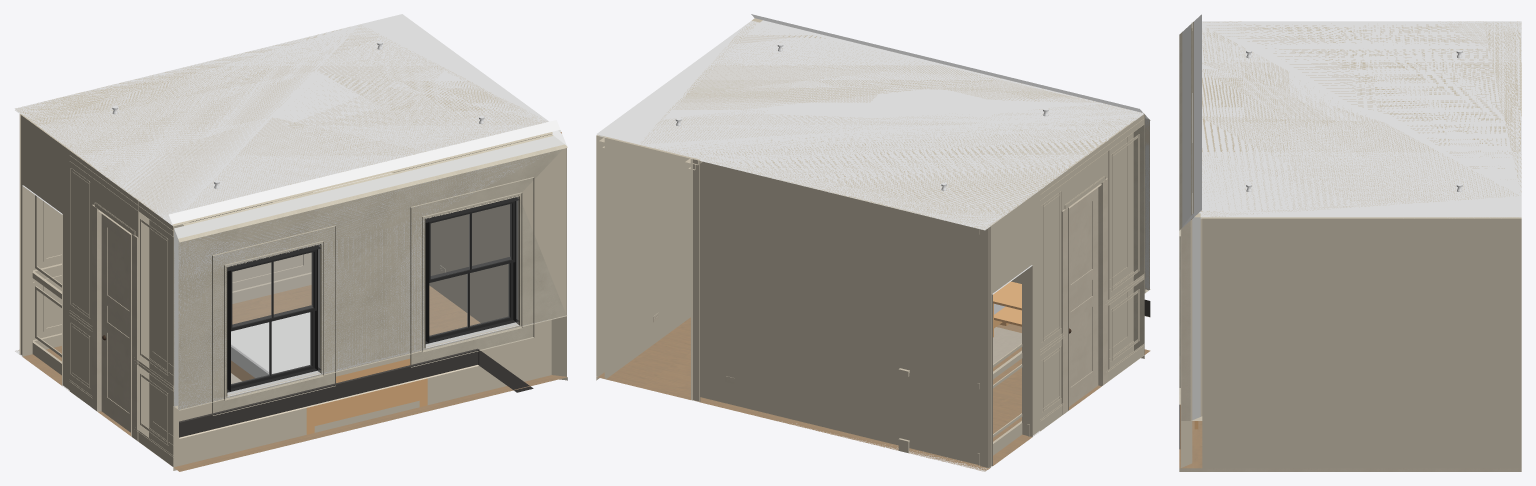
Rendered from blue-bedroom-602d1c1d86f0.glb.
3 views of the same model, side by side, from view 1: azimuth 30°, elevation 25°; view 2: azimuth 150°, elevation 25°; view 3: azimuth 270°, elevation 25° (orthographic). The views are drawn at different scales.
Visible parts, largest first — view 1: blue-bedroom-9d91b47435c6fb33, blue-bedroom-bddaf205afbd60c0, blue-bedroom-e8793759323e04f0, blue-bedroom-df3e1f21720b0c39, blue-bedroom-ed5fdcd3ee9c0dd5, blue-bedroom-649b3532e9781727, blue-bedroom-3c3de67e8dd93323, blue-bedroom-2f7d8eff34a2c180, blue-bedroom-d558d227e2c2e58e, blue-bedroom-746250f96522f643, blue-bedroom-64753ebcb3824a84, blue-bedroom-2575515a05775d9e (+14 smaller); view 2: blue-bedroom-6e269356ae8bfd70, blue-bedroom-9d91b47435c6fb33, blue-bedroom-e8793759323e04f0, blue-bedroom-746250f96522f643, blue-bedroom-ed5fdcd3ee9c0dd5, blue-bedroom-2575515a05775d9e, blue-bedroom-3e649b0d114ae387, blue-bedroom-bf159a19de53e60e, blue-bedroom-8798d08755b4aa77, blue-bedroom-95684fa6df9df9bf, blue-bedroom-6094a6ce4f88b510, blue-bedroom-00ce7128e34bccf3 (+5 smaller); view 3: blue-bedroom-746250f96522f643, blue-bedroom-9d91b47435c6fb33, blue-bedroom-e8793759323e04f0, blue-bedroom-2575515a05775d9e, blue-bedroom-0a6e1f8a567f4490, blue-bedroom-49f6d498b24b79cd, blue-bedroom-64753ebcb3824a84, blue-bedroom-df3e1f21720b0c39, blue-bedroom-34525a54e63b733b, blue-bedroom-2f7d8eff34a2c180, blue-bedroom-4edf3a9420c06709, blue-bedroom-bddaf205afbd60c0 (+1 smaller).
Part boxes in pixels (x1=…): blue-bedroom-9d91b47435c6fb33: x1=14, y1=14, x2=552, y2=226; blue-bedroom-bddaf205afbd60c0: x1=178, y1=144, x2=566, y2=409; blue-bedroom-e8793759323e04f0: x1=15, y1=26, x2=560, y2=224; blue-bedroom-df3e1f21720b0c39: x1=178, y1=145, x2=567, y2=410; blue-bedroom-ed5fdcd3ee9c0dd5: x1=19, y1=114, x2=149, y2=441; blue-bedroom-649b3532e9781727: x1=425, y1=195, x2=519, y2=343; blue-bedroom-3c3de67e8dd93323: x1=227, y1=244, x2=321, y2=392; blue-bedroom-2f7d8eff34a2c180: x1=173, y1=315, x2=566, y2=470; blue-bedroom-d558d227e2c2e58e: x1=231, y1=312, x2=427, y2=434; blue-bedroom-746250f96522f643: x1=393, y1=135, x2=546, y2=322; blue-bedroom-64753ebcb3824a84: x1=174, y1=136, x2=564, y2=409; blue-bedroom-2575515a05775d9e: x1=18, y1=285, x2=567, y2=471; blue-bedroom-6e269356ae8bfd70: x1=700, y1=159, x2=990, y2=471; blue-bedroom-9d91b47435c6fb33: x1=596, y1=20, x2=1143, y2=229; blue-bedroom-e8793759323e04f0: x1=641, y1=14, x2=1142, y2=228; blue-bedroom-746250f96522f643: x1=596, y1=135, x2=690, y2=378; blue-bedroom-ed5fdcd3ee9c0dd5: x1=980, y1=139, x2=1108, y2=467; blue-bedroom-2575515a05775d9e: x1=596, y1=317, x2=1150, y2=471; blue-bedroom-3e649b0d114ae387: x1=1108, y1=113, x2=1144, y2=369; blue-bedroom-bf159a19de53e60e: x1=1069, y1=187, x2=1098, y2=406; blue-bedroom-8798d08755b4aa77: x1=1061, y1=178, x2=1107, y2=414; blue-bedroom-95684fa6df9df9bf: x1=691, y1=158, x2=699, y2=401; blue-bedroom-6094a6ce4f88b510: x1=1040, y1=114, x2=1144, y2=200; blue-bedroom-00ce7128e34bccf3: x1=1068, y1=183, x2=1101, y2=410; blue-bedroom-746250f96522f643: x1=1202, y1=217, x2=1521, y2=468; blue-bedroom-9d91b47435c6fb33: x1=1192, y1=21, x2=1521, y2=218; blue-bedroom-e8793759323e04f0: x1=1194, y1=14, x2=1521, y2=217; blue-bedroom-2575515a05775d9e: x1=1179, y1=404, x2=1521, y2=471; blue-bedroom-0a6e1f8a567f4490: x1=1181, y1=220, x2=1190, y2=420; blue-bedroom-49f6d498b24b79cd: x1=1192, y1=216, x2=1200, y2=420; blue-bedroom-64753ebcb3824a84: x1=1182, y1=24, x2=1190, y2=226; blue-bedroom-df3e1f21720b0c39: x1=1179, y1=33, x2=1181, y2=403; blue-bedroom-34525a54e63b733b: x1=1200, y1=218, x2=1202, y2=420; blue-bedroom-2f7d8eff34a2c180: x1=1179, y1=388, x2=1192, y2=467; blue-bedroom-4edf3a9420c06709: x1=1191, y1=218, x2=1192, y2=420; blue-bedroom-bddaf205afbd60c0: x1=1181, y1=32, x2=1182, y2=227.
Size of the model in its own units: 4.88 by 3.04 by 3.6.
27 materials, 5 textured.
